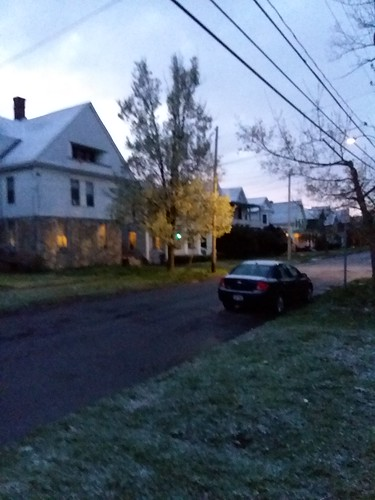building: (1, 102, 136, 270), (212, 185, 310, 231)
car: (215, 263, 311, 317)
grass: (42, 314, 375, 493)
sky: (1, 1, 368, 183)
street: (1, 253, 360, 500)
tree: (120, 42, 213, 302)
